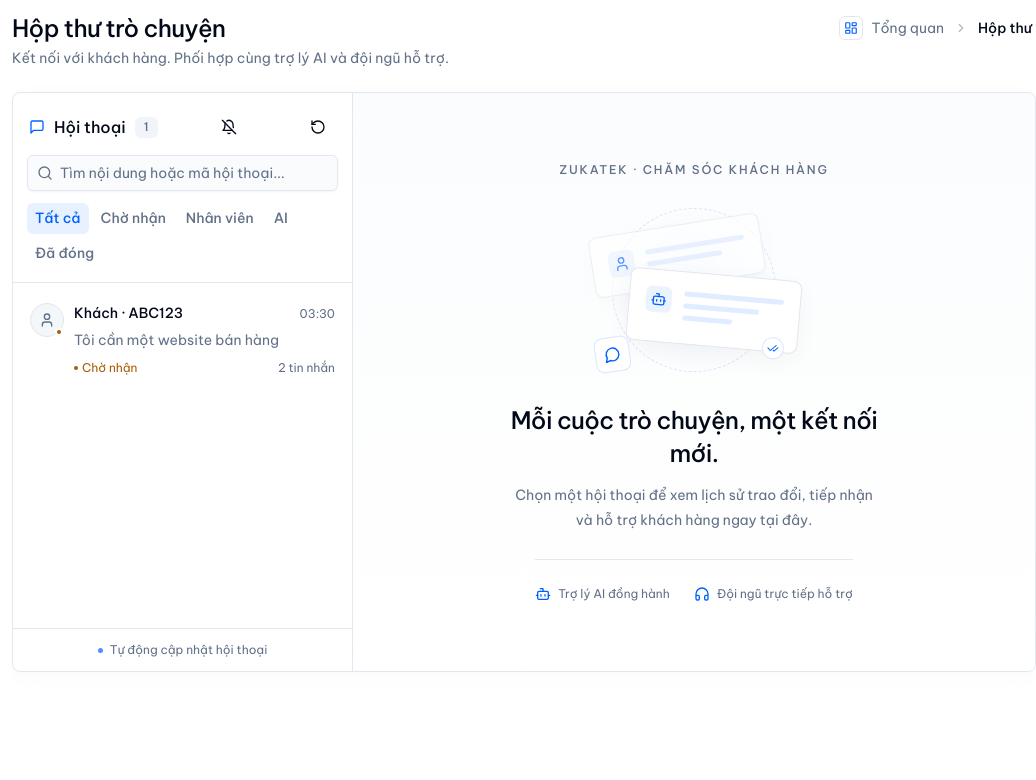
Test: Chat inbox workspace › shows transcript errors with retry instead of presenting an empty conversation
This screenshot has width=1036, height=780.
Click the button with test id "chat-inbox-row". click: {"x": 182, "y": 340}
box: [20,290,345,390]
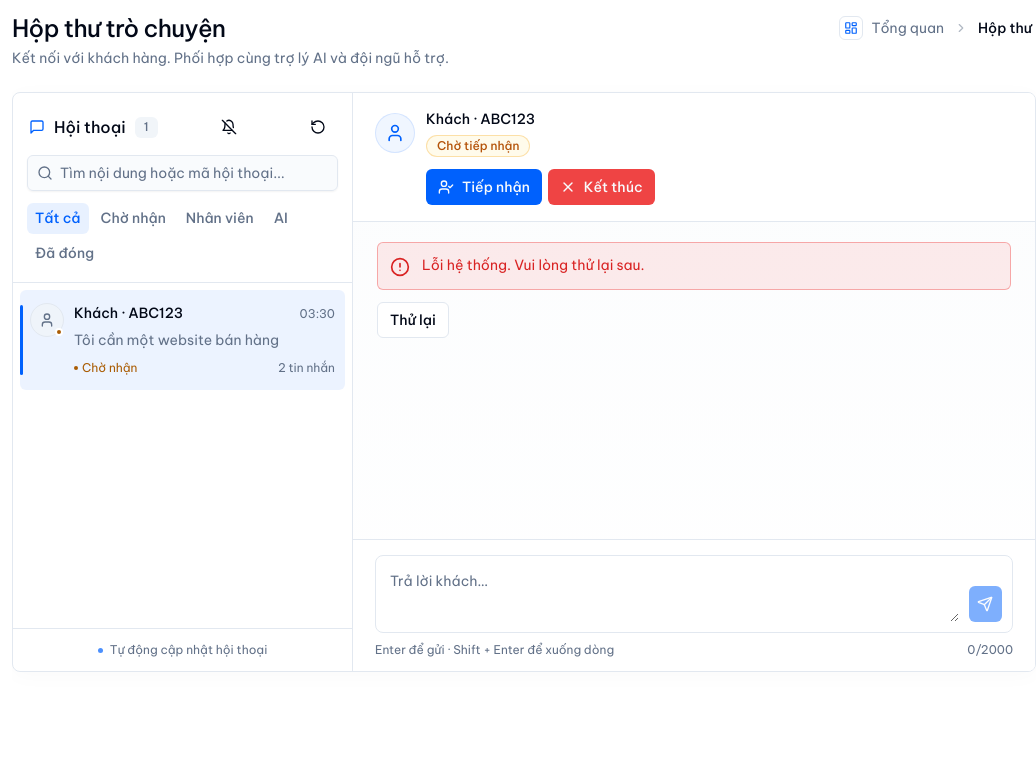
Click the button "Thử lại". click: {"x": 413, "y": 320}
box: [377,302,449,338]
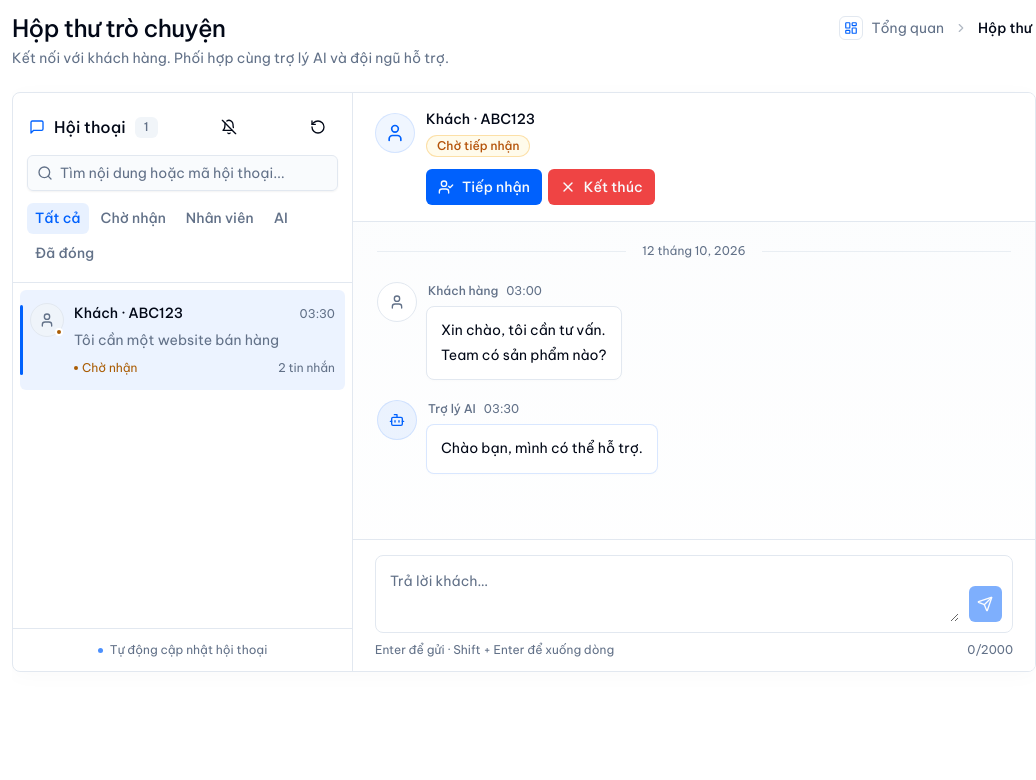
Expected: the text "Chào bạn, mình có thể hỗ trợ." is shown, [441,439,643,457]
